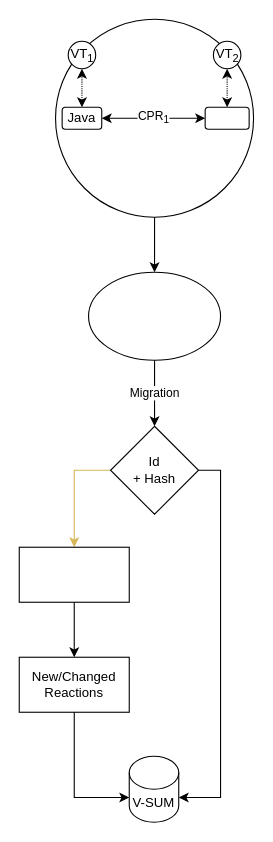
Some shapes in this 273 by 842 pixel diagram are drawn without their labels. Here are the shapes that lost their labels. From the top down, the centre of each, then its label:
At pixel 226 117: "UML".
At pixel 154 315: "Correspondence + reaction id + semantic hash".
At pixel 73 574: "Delete correspondences".
